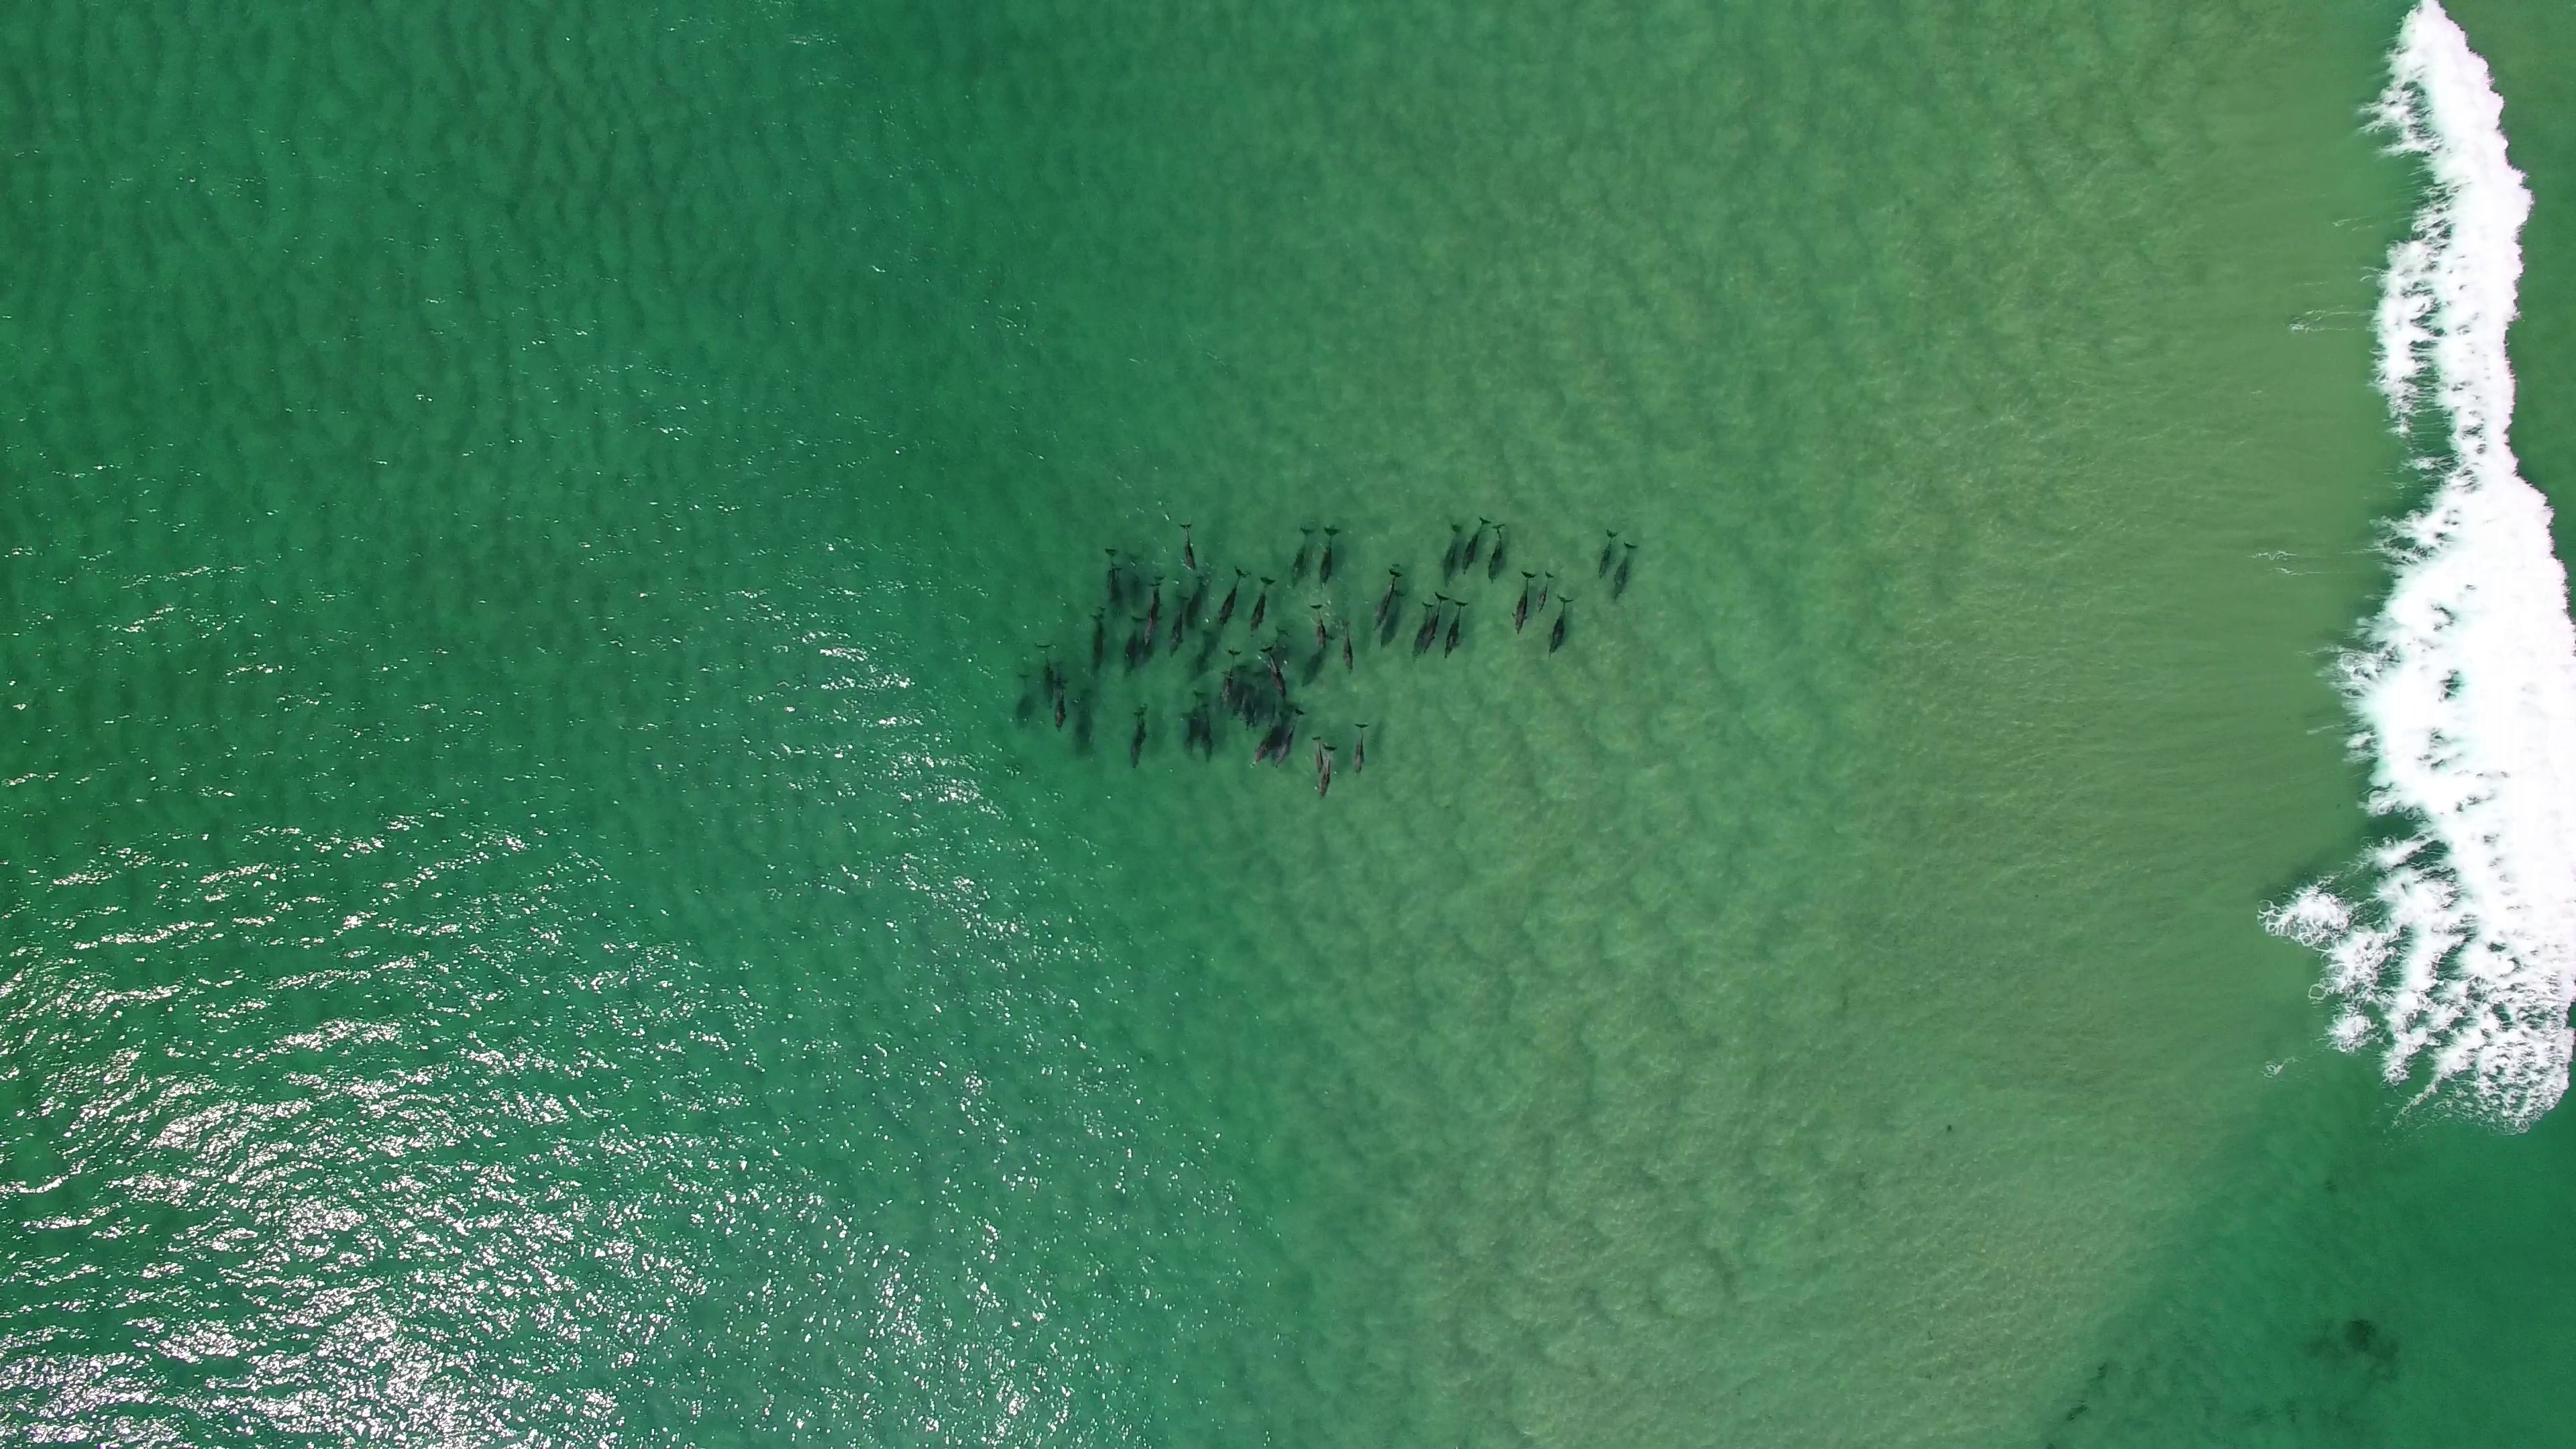dolphin: (1249, 706, 1295, 768), (1299, 628, 1336, 688), (1272, 706, 1306, 768), (1217, 563, 1249, 626), (1260, 640, 1292, 701), (1290, 522, 1318, 589), (1380, 579, 1408, 646), (1141, 573, 1166, 649), (1458, 517, 1490, 575), (1249, 573, 1277, 635), (1548, 591, 1571, 663), (1610, 536, 1635, 603), (1373, 570, 1401, 628), (1033, 640, 1056, 711), (1123, 610, 1146, 679), (1318, 522, 1341, 591), (1184, 686, 1207, 754), (1513, 564, 1534, 635), (1077, 685, 1097, 761), (1088, 605, 1109, 674), (1219, 648, 1242, 709), (1049, 662, 1069, 734), (1228, 662, 1253, 718), (1444, 602, 1468, 658), (1410, 602, 1433, 662), (1594, 527, 1619, 582), (1014, 669, 1033, 738), (1102, 545, 1122, 614), (1131, 702, 1150, 771), (1168, 594, 1189, 656), (1444, 522, 1465, 584), (1424, 589, 1445, 649), (1177, 520, 1200, 575), (1334, 621, 1357, 674), (1318, 740, 1338, 801), (1488, 518, 1507, 580), (1123, 548, 1143, 609), (1307, 603, 1332, 649), (1201, 697, 1215, 771), (1350, 720, 1368, 775), (1536, 568, 1552, 617), (1311, 732, 1323, 782)
